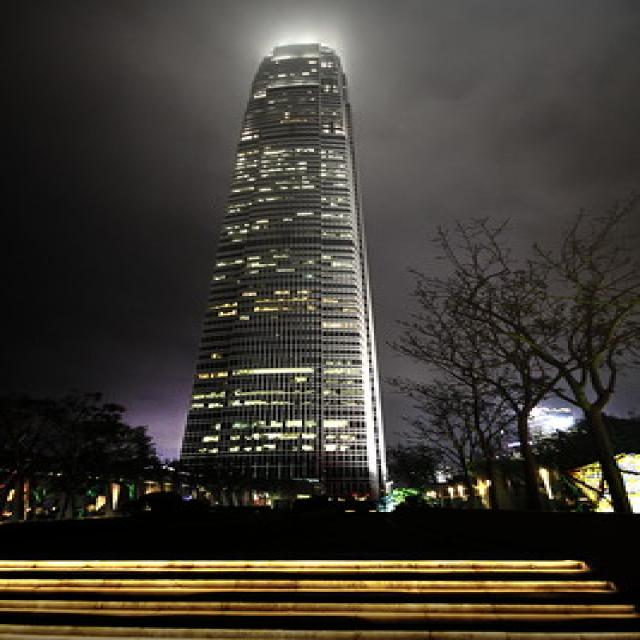building: (167, 33, 394, 510)
